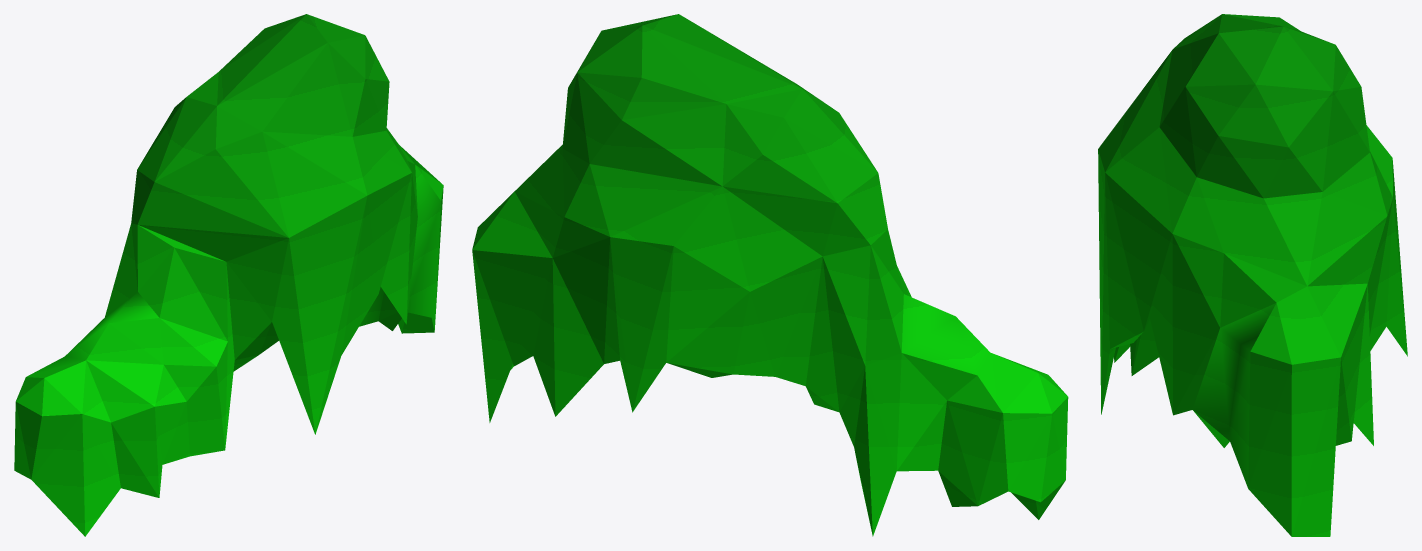
File: Prefab_Foliage_Tree_Willow_Leaves_B.glb
The picture shows the model from 3 angles, left to right: view 1: azimuth 30°, elevation 25°; view 2: azimuth 150°, elevation 25°; view 3: azimuth 270°, elevation 25°; orthographic projection. The views are drawn at different scales.
Parts seen in each view (by area): view 1: WillowTree_A_Trunk.002; view 2: WillowTree_A_Trunk.002; view 3: WillowTree_A_Trunk.002.
Part boxes in pixels (<box>): WillowTree_A_Trunk.002: <box>14,14,443,536</box>; WillowTree_A_Trunk.002: <box>472,14,1068,536</box>; WillowTree_A_Trunk.002: <box>1098,14,1407,536</box>.
Bounding box in the file's own units: 11.46 × 9.54 × 5.36.
Materials: 1 (1 with a texture image).
